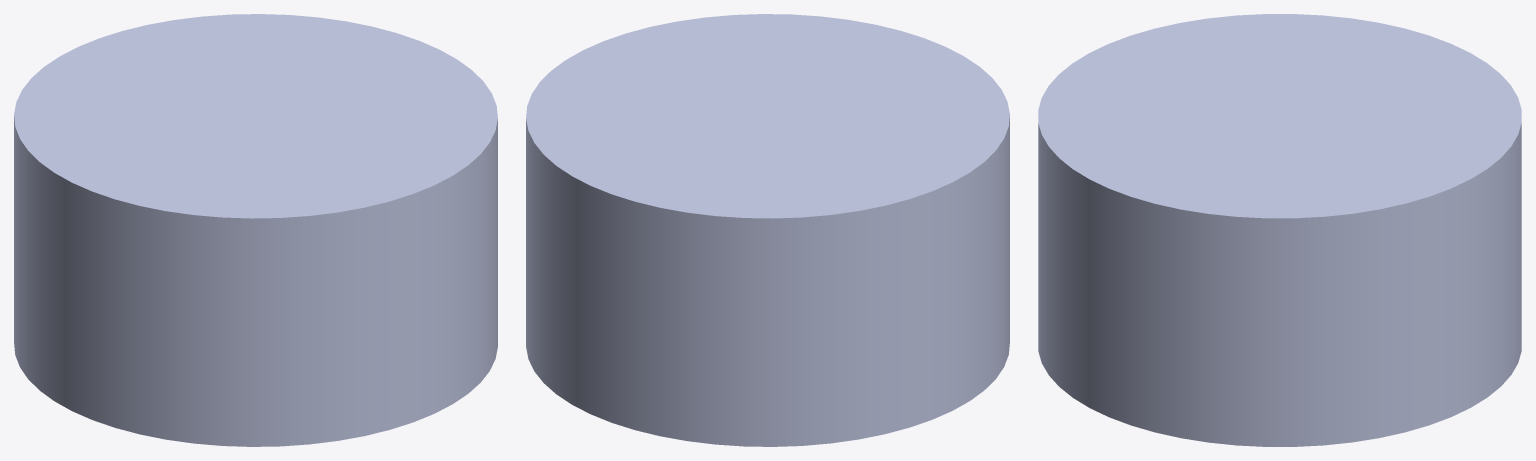
Rendered from left_omni_link.dae.
3 views of the same model, side by side, from view 1: azimuth 30°, elevation 25°; view 2: azimuth 150°, elevation 25°; view 3: azimuth 270°, elevation 25° (orthographic).
Parts seen in each view (by area): view 1: node0; view 2: node0; view 3: node0.
Boxes of the visible parts, box(x1,y1,x2,y2) form: node0: box(14, 14, 497, 446); node0: box(526, 14, 1009, 446); node0: box(1038, 14, 1521, 446).
Bounding box in the file's own units: 0.0479 × 0.025 × 0.0479.
